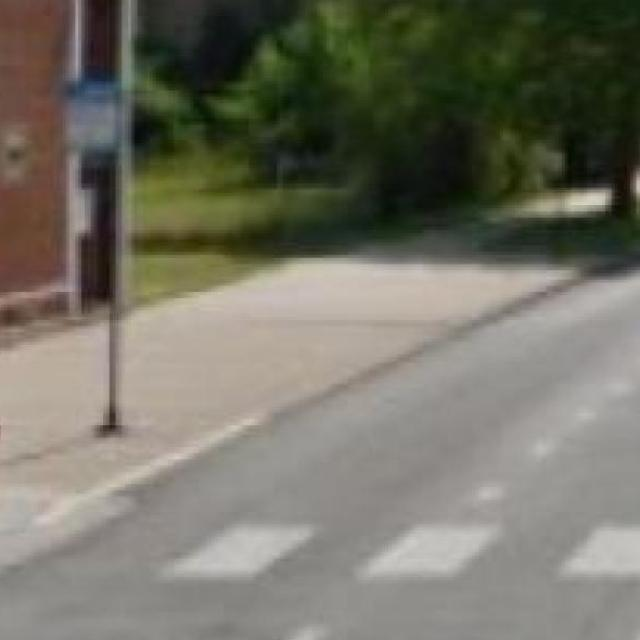zebra: (0, 474, 640, 590)
